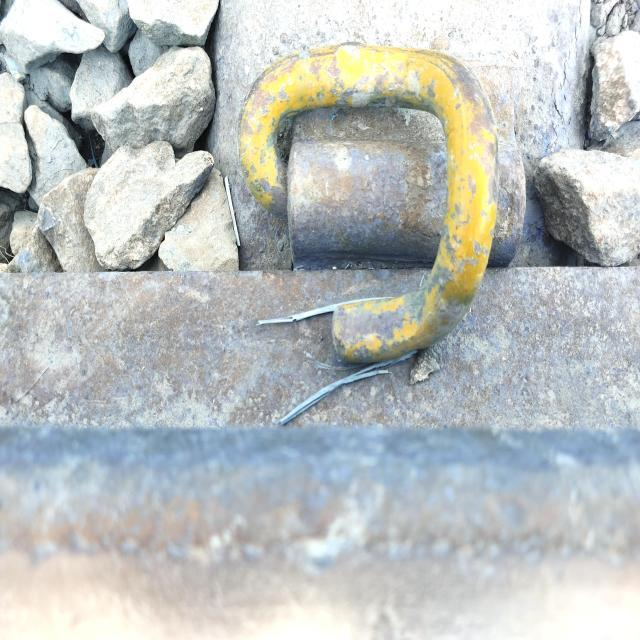Good Fasteners: (222, 36, 524, 385)
